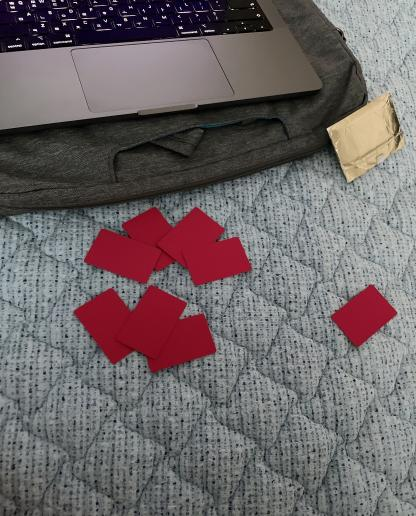ThreeHwatoo: (67, 285, 224, 380)
